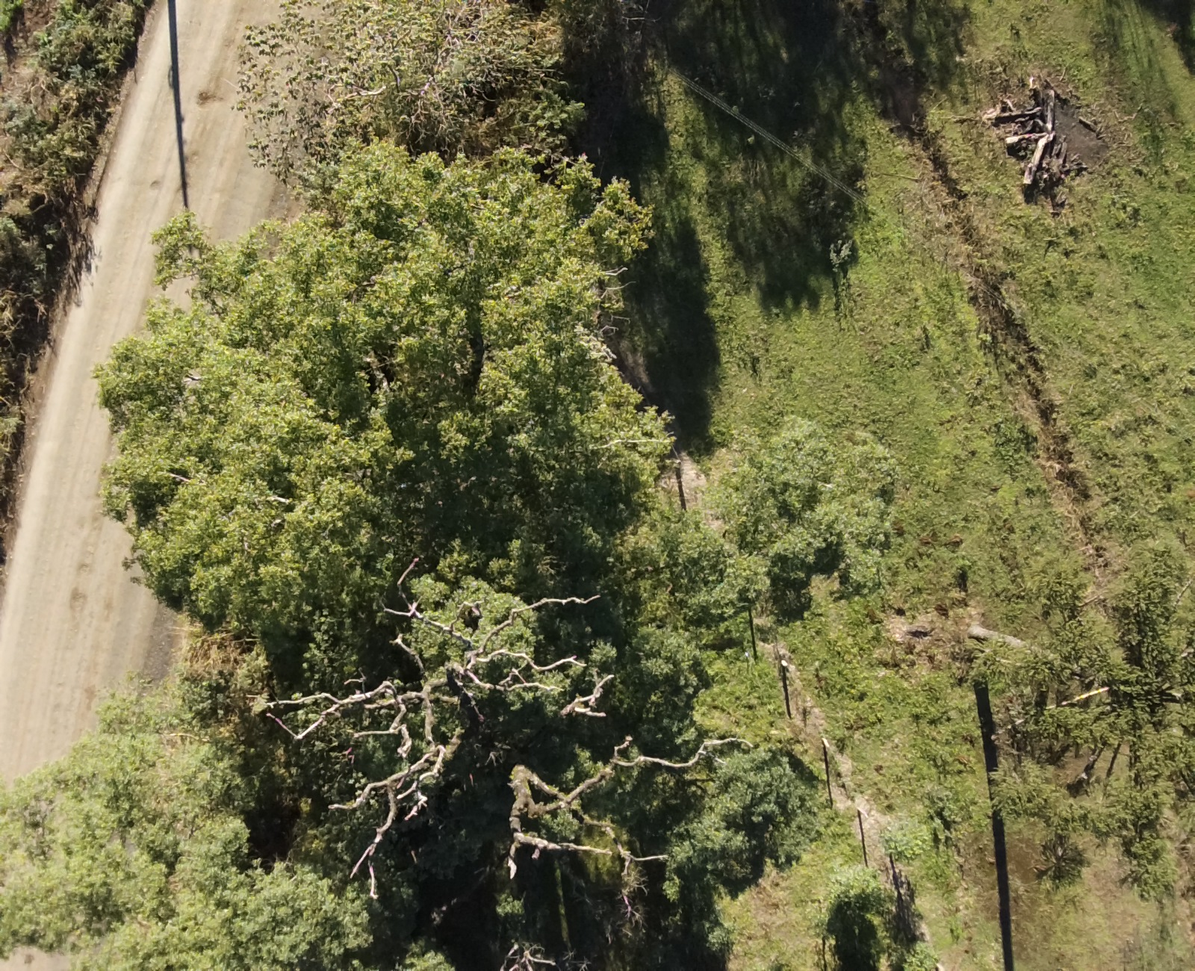erva: (822, 862, 894, 943)
